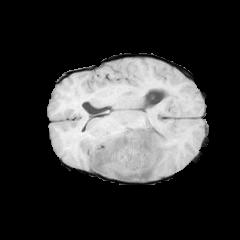glioma: (90, 119, 178, 180)
